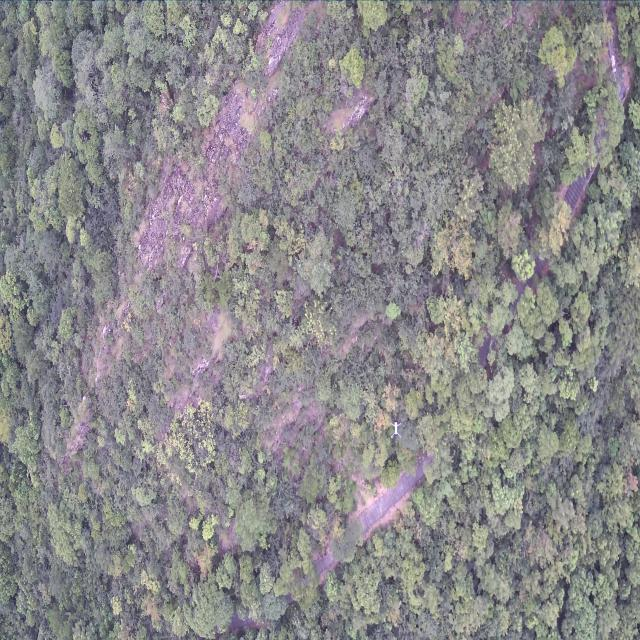UAV: (390, 421, 402, 438)
